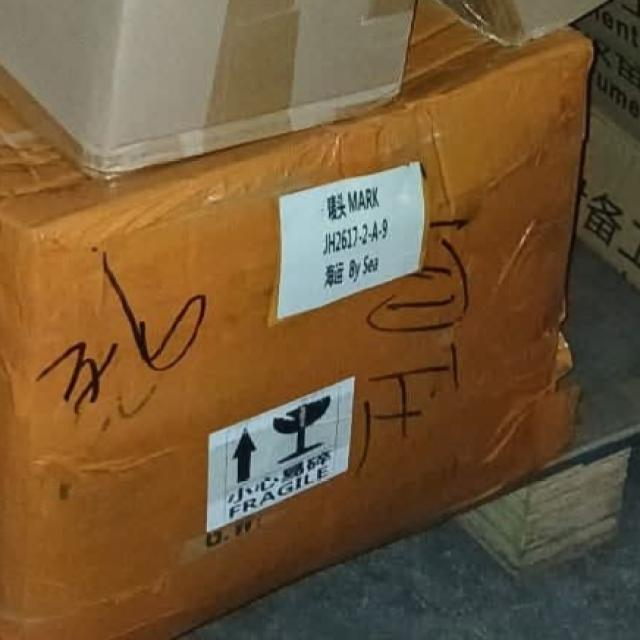carton_box: (0, 28, 640, 640)
export_mark_label: (271, 182, 440, 310)
fragile_label: (259, 400, 346, 484)
package_damage: (535, 27, 612, 446)
this_side_up_label: (214, 426, 278, 520)
